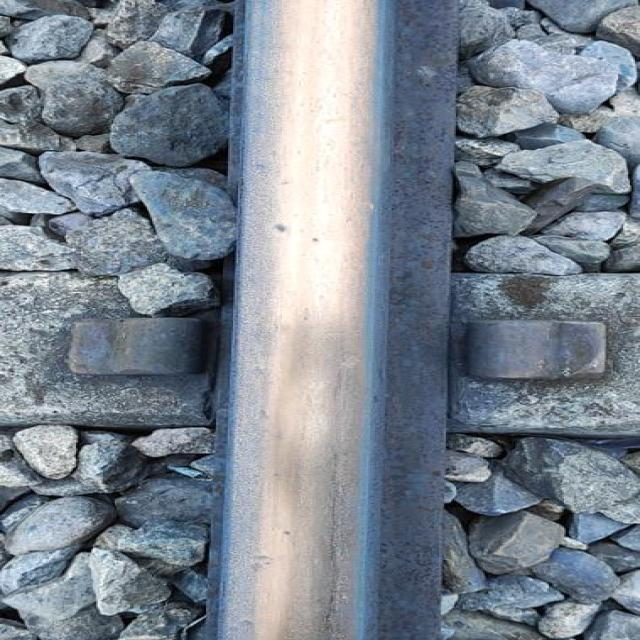Missing Fastener: (446, 305, 631, 408), (29, 308, 222, 402)
